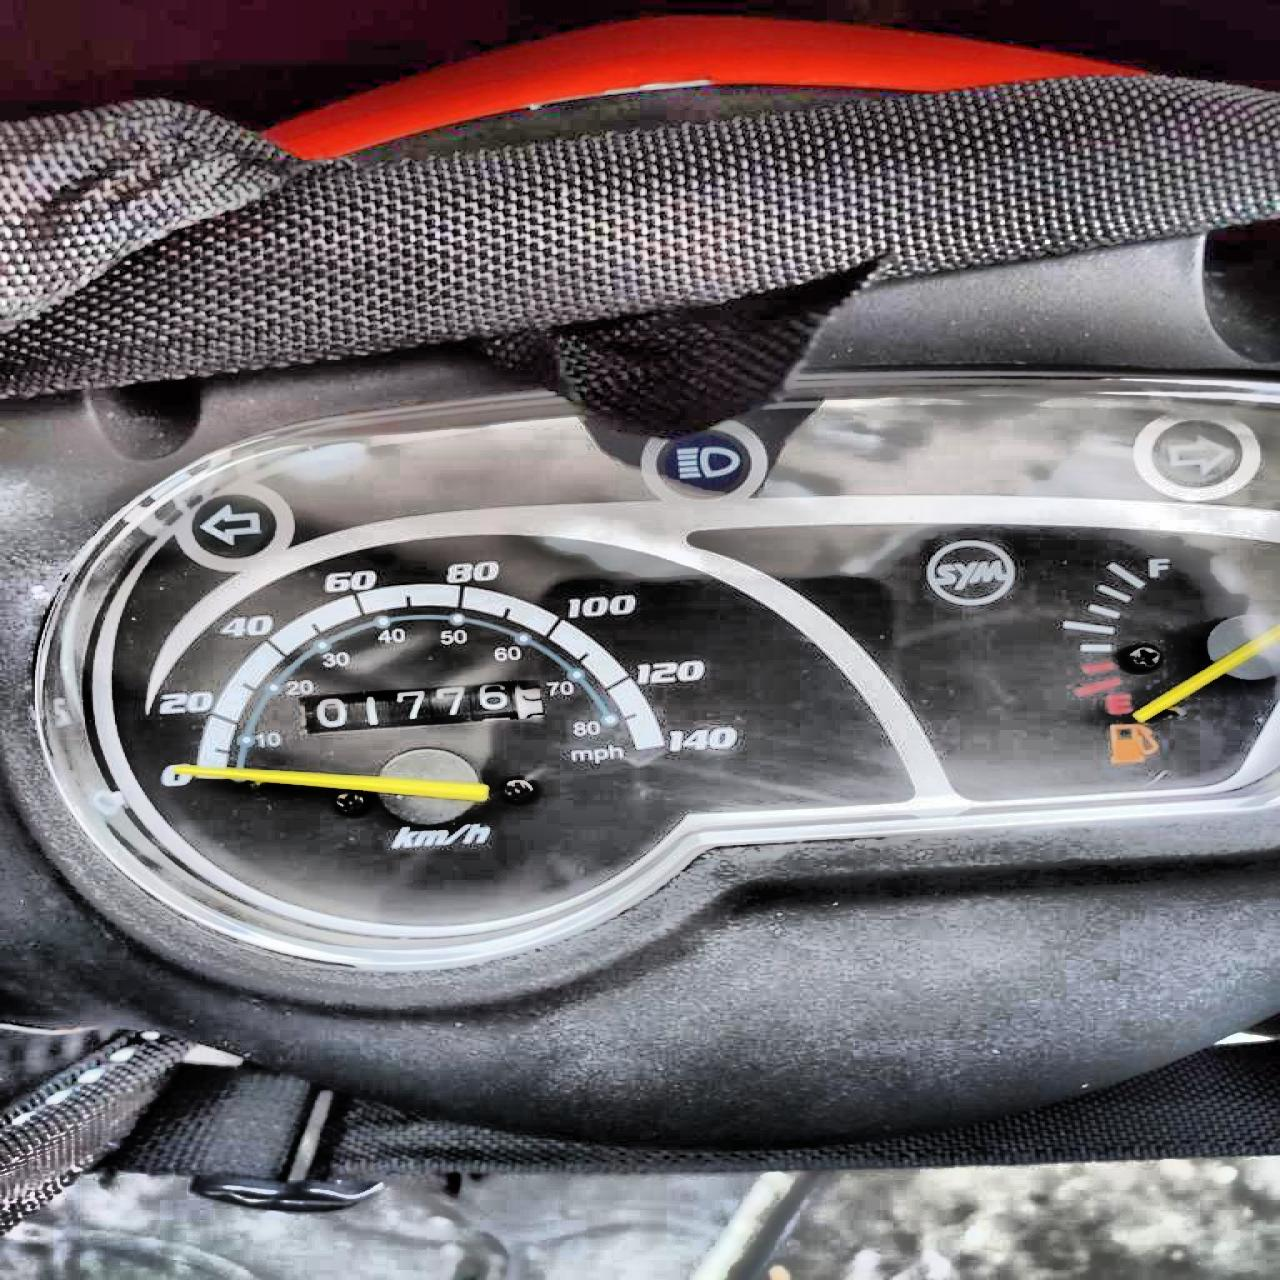0: (313, 696, 348, 728), (299, 678, 313, 694)
1: (359, 692, 383, 728)
2: (292, 679, 298, 696)
5: (517, 678, 543, 701)
6: (474, 680, 509, 710)
7: (431, 681, 465, 716), (390, 688, 427, 720)
odometer: (292, 676, 549, 737)
